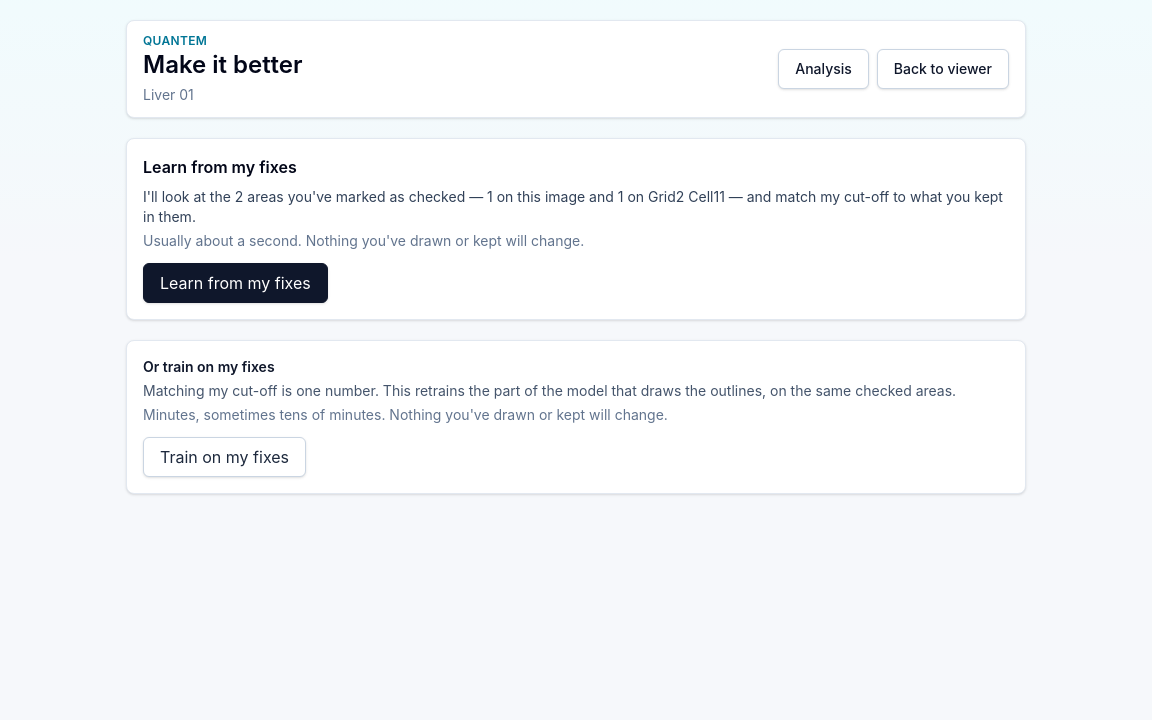
Test case: ImprovePanel › runs end to end from one button and reports in plain language
The image size is (1152, 720).
What coordinates should you click on to do the following:
click the button with test id "learn-from-my-fixes"
I would click on:
 (235, 283)
Its box is [143, 263, 328, 303].
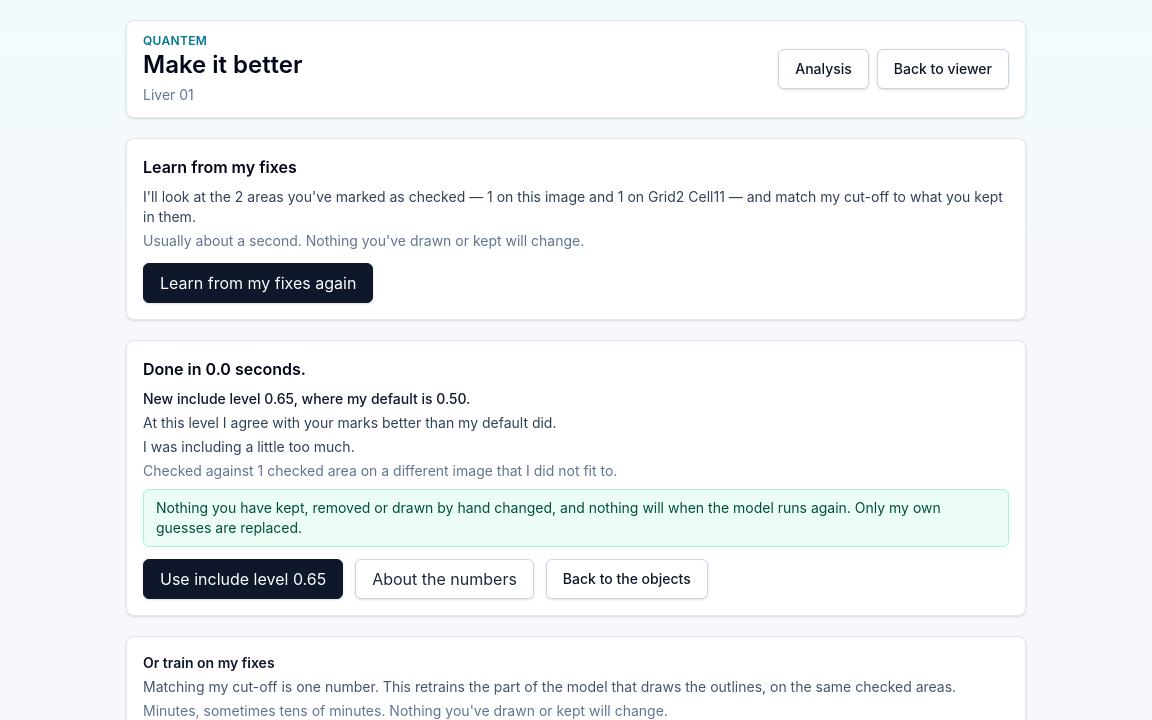
Expected: the text "New include level 0.65, where my default is 0.50." is shown, [143, 390, 470, 407]
Expected: the text "At this level I agree with your marks better than my default did." is shown, [143, 414, 556, 431]
Expected: the text "I was including a little too much." is shown, [143, 438, 355, 455]
